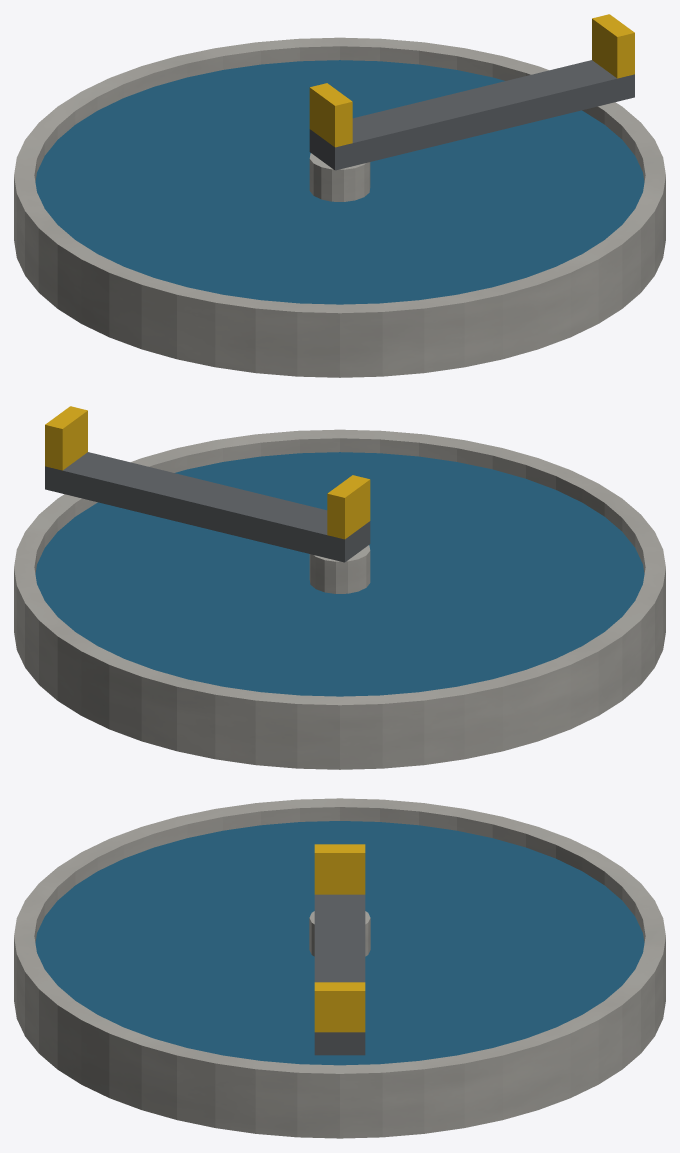
The model's file is pv_vodarna_nadrz.glb.
3 views of the same model, one above another, from view 1: azimuth 30°, elevation 25°; view 2: azimuth 150°, elevation 25°; view 3: azimuth 270°, elevation 25° (orthographic).
Parts seen in each view (by area): view 1: dum; view 2: dum; view 3: dum.
Part boxes in pixels (left/top/right/bottom): dum: left=14, top=14, right=665, bottom=377; dum: left=14, top=406, right=665, bottom=769; dum: left=14, top=798, right=665, bottom=1138.
Bounding box in the file's own units: 12.77 × 3.19 × 12.77.
1 material, 1 textured.
